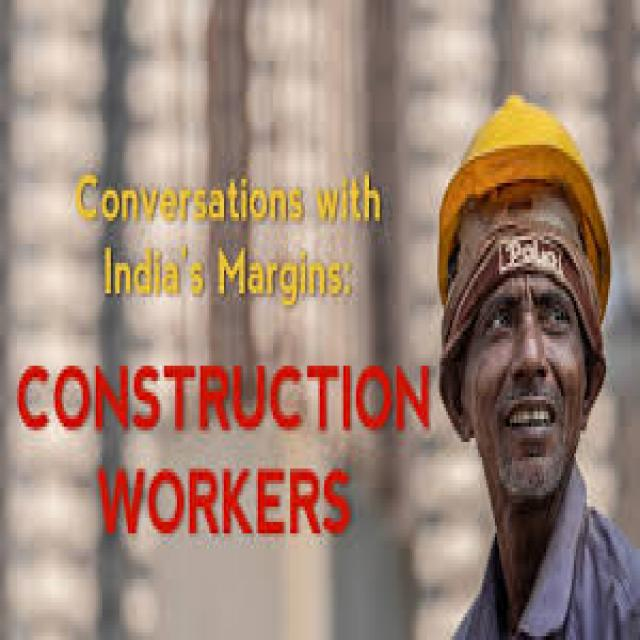Safety-Helmet: (428, 84, 618, 305)
